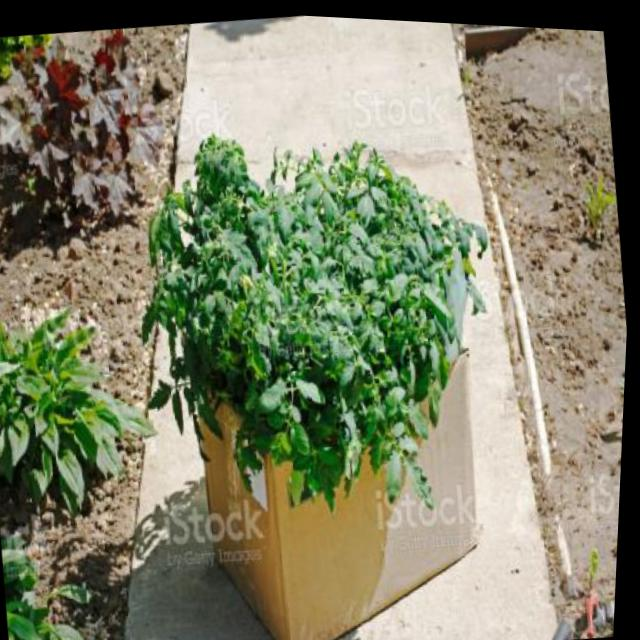box: (146, 235, 542, 640)
